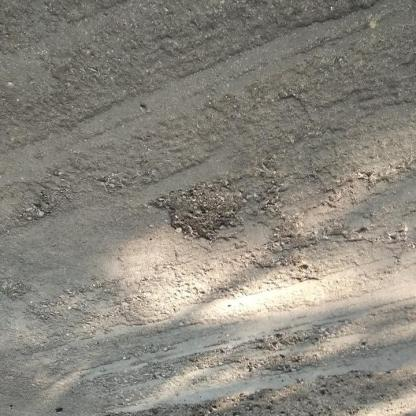pothole: (152, 181, 249, 243), (257, 331, 312, 353), (261, 356, 314, 375)
